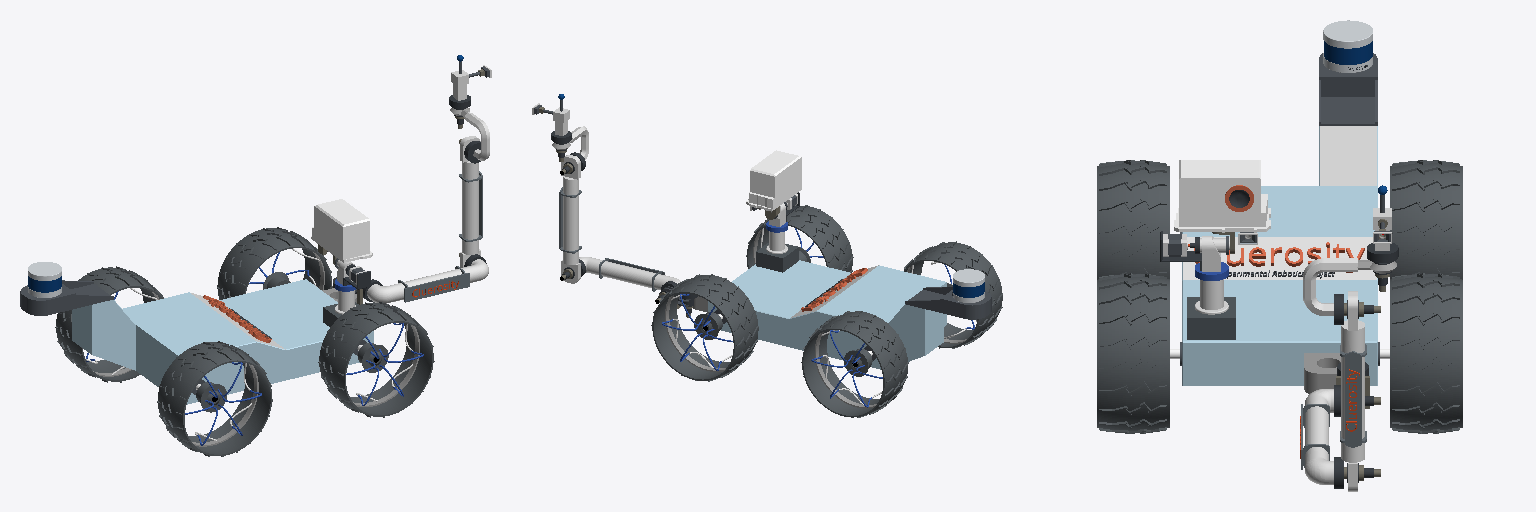
--- What the picture shows (computed from the rendered views, not written in the file) ---
The picture shows the robot from 3 angles, left to right: view 1: azimuth 30°, elevation 25°; view 2: azimuth 150°, elevation 25°; view 3: azimuth 270°, elevation 25°; orthographic projection.
Model cluerosity_manipulator with 27 links and 26 joints (5 revolute, 6 continuous, 15 fixed), rooted at base_footprint, posed all joints at 0.
Links seen in each view (by area): view 1: base_link, right_rear_wheel, right_front_wheel, left_front_wheel, left_rear_wheel, sensor_housing, link_01, link_02, lidar_base, lidar_sensor, gimbal_axle, motor_connector_02 (+1 smaller); view 2: base_link, left_front_wheel, left_rear_wheel, right_rear_wheel, right_front_wheel, sensor_housing, link_02, lidar_base, link_01, lidar_sensor, gimbal_axle, gimbal_base (+1 smaller); view 3: base_link, left_front_wheel, right_front_wheel, left_rear_wheel, right_rear_wheel, sensor_housing, link_02, lidar_base, link_01, lidar_sensor, gimbal_axle, motor_connector_02 (+6 smaller).
Link boxes in pixels (x1,y1,x2,y2): base_link: [72, 279, 373, 404]; right_rear_wheel: [157, 341, 272, 456]; right_front_wheel: [318, 301, 434, 417]; left_front_wheel: [217, 227, 332, 299]; left_rear_wheel: [55, 266, 163, 382]; sensor_housing: [311, 199, 372, 270]; link_01: [367, 259, 488, 303]; link_02: [459, 136, 482, 267]; lidar_base: [20, 280, 113, 315]; lidar_sensor: [28, 262, 61, 297]; gimbal_axle: [335, 261, 370, 314]; motor_connector_02: [450, 108, 489, 160]; base_link: [693, 260, 946, 369]; left_front_wheel: [651, 274, 758, 381]; left_rear_wheel: [801, 311, 908, 417]; right_rear_wheel: [904, 241, 1002, 348]; right_front_wheel: [746, 205, 853, 272]; sensor_housing: [746, 150, 801, 219]; link_02: [559, 155, 581, 283]; lidar_base: [905, 287, 991, 319]; link_01: [579, 257, 680, 291]; lidar_sensor: [952, 269, 984, 302]; gimbal_axle: [766, 192, 799, 253]; gimbal_base: [756, 243, 798, 272]; base_link: [1180, 126, 1379, 393]; left_front_wheel: [1390, 273, 1462, 433]; right_front_wheel: [1097, 273, 1169, 433]; left_rear_wheel: [1390, 160, 1462, 279]; right_rear_wheel: [1097, 160, 1169, 279]; sensor_housing: [1174, 160, 1270, 254]; link_02: [1340, 291, 1366, 491]; lidar_base: [1319, 53, 1377, 125]; link_01: [1300, 389, 1333, 484]; lidar_sensor: [1323, 20, 1372, 72]; gimbal_axle: [1160, 231, 1228, 314]; motor_connector_02: [1303, 258, 1396, 315].
Bounding box of the posed robot: 1.62 × 0.75 × 0.8149 m (x, y, z).
Meshes: 14 distinct files referenced, 24 mesh visuals loaded (14 Collada DAE).

robot.urdf — cluerosity_manipulator:
<?xml version="1.0" ?>
<!-- =================================================================================== -->
<!-- |    This document was autogenerated by xacro from [local-path]/catkin_ws/src/cluerosity/cluerosity_description/urdf/cluerosity_manipulator.xacro | -->
<!-- |    EDITING THIS FILE BY HAND IS NOT RECOMMENDED                                 | -->
<!-- =================================================================================== -->
<robot name="cluerosity_manipulator">
    <material name="black">
        <color rgba="0.0 0.0 0.0 1.0" />
    </material>
    <material name="blue">
        <color rgba="0.203125 0.23828125 0.28515625 1.0" />
    </material>
    <material name="green">
        <color rgba="0.0 0.8 0.0 1.0" />
    </material>
    <material name="grey">
        <color rgba="0.2 0.2 0.2 1.0" />
    </material>
    <material name="orange">
        <color rgba="1.0 0.423529411765 0.0392156862745 1.0" />
    </material>
    <material name="brown">
        <color rgba="0.870588235294 0.811764705882 0.764705882353 1.0" />
    </material>
    <material name="red">
        <color rgba="0.80078125 0.12890625 0.1328125 1.0" />
    </material>
    <material name="white">
        <color rgba="1.0 1.0 1.0 1.0" />
    </material>
    <material name="dark_gray">
        <color rgba="0.35 0.38 0.4 1" />
    </material>
    <material name="cyan">
        <color rgba="0 1.0 1.0 1.0" />
    </material>
    <!-- 
        +==================================+
        |      Wheel Definition Macro      |
        +=================================+ 
    -->
    <!-- 
        +=============================+
        |      Wheel Shaft Macro      |
        +============================+ 
    -->
    <!-- 
        +===========================+
        |      Fixed Link Macro     |
        +==========================+ 
    -->
    <!-- 
        +===========================+
        |   Continuous Link Macro    |
        +==========================+ 
    -->
    <!-- 
        +===========================+
        |  Revolute Link Macro    |
        +==========================+ 
    -->
    <!-- 
        +==============================================+
        |      Base Link and Base footprint Macro      |
        +==============================================+ 
    -->
    <!-- 
        +==================================+
        |   Sensor Gimbal links Macro     |
        +================================+ 
    -->
    <gazebo reference="gimbal_base">
        <material>Gazebo/DarkGrey</material>
    </gazebo>
    <gazebo>
        <plugin filename="libgazebo_ros_skid_steer_drive.so" name="skid_steer_drive_controller">
            <updateRate>20.0</updateRate>
            <robotNamespace>/</robotNamespace>
            <leftFrontJoint>left_front_wheel_joint</leftFrontJoint>
            <rightFrontJoint>right_front_wheel_joint</rightFrontJoint>
            <leftRearJoint>left_rear_wheel_joint</leftRearJoint>
            <rightRearJoint>right_rear_wheel_joint</rightRearJoint>
            <wheelSeparation>0.6</wheelSeparation>
            <wheelDiameter>0.33</wheelDiameter>
            <robotBaseFrame>base_footprint</robotBaseFrame>
            <torque>10000</torque>
            <topicName>cmd_vel</topicName>
            <broadcastTF>true</broadcastTF>
            <odometryTopic>odom</odometryTopic>
            <odometryFrame>odom</odometryFrame>
        </plugin>
    </gazebo>
    <!-- ros_control plugin -->
    <gazebo>
        <plugin filename="libgazebo_ros_control.so" name="gazebo_ros_control">
            <robotNamespace>cluerosity</robotNamespace>
            <robotSimType>gazebo_ros_control/DefaultRobotHWSim</robotSimType>
            <legacyModeNS>true</legacyModeNS>
        </plugin>
    </gazebo>
    <!-- hokuyo -->
    <gazebo reference="hokuyo_link">
        <sensor name="head_hokuyo_sensor" type="gpu_ray">
            <pose>0 0 0 0 0 0</pose>
            <visualize>false</visualize>
            <update_rate>40</update_rate>
            <ray>
                <scan>
                    <horizontal>
                        <samples>720</samples>
                        <resolution>1</resolution>
                        <min_angle>-1.570796</min_angle>
                        <max_angle>1.570796</max_angle>
                    </horizontal>
                </scan>
                <range>
                    <min>0.10</min>
                    <max>30.0</max>
                    <resolution>0.01</resolution>
                </range>
                <noise>
                    <type>gaussian</type>
                    <!-- Noise parameters based on published spec for Hokuyo laser
               achieving "+-30mm" accuracy at range < 10m.  A mean of 0.0m and
               stddev of 0.01m will put 99.7% of samples within 0.03m of the true
               reading. -->
                    <mean>0.0</mean>
                    <stddev>0.01</stddev>
                </noise>
            </ray>
            <plugin filename="libgazebo_ros_gpu_laser.so" name="gazebo_ros_head_hokuyo_controller">
                <topicName>laser_scan</topicName>
                <frameName>hokuyo_link</frameName>
            </plugin>
        </sensor>
    </gazebo>
    <!-- camera -->
    <gazebo reference="camera_link">
        <sensor name="camera1" type="camera">
            <update_rate>30.0</update_rate>
            <camera name="head">
                <horizontal_fov>1.3962634</horizontal_fov>
                <image>
                    <width>800</width>
                    <height>800</height>
                    <format>R8G8B8</format>
                </image>
                <clip>
                    <near>0.02</near>
                    <far>300</far>
                </clip>
                <noise>
                    <type>gaussian</type>
                    <!-- Noise is sampled independently per pixel on each frame.
               That pixel's noise value is added to each of its color
               channels, which at that point lie in the range [0,1]. -->
                    <mean>0.0</mean>
                    <stddev>0.007</stddev>
                </noise>
            </camera>
            <plugin filename="libgazebo_ros_camera.so" name="camera_controller">
                <alwaysOn>true</alwaysOn>
                <updateRate>0.0</updateRate>
                <cameraName>cluerosity/camera1</cameraName>
                <imageTopicName>image_raw</imageTopicName>
                <cameraInfoTopicName>camera_info</cameraInfoTopicName>
                <frameName>camera_link</frameName>
                <hackBaseline>0.07</hackBaseline>
                <distortionK1>0.0</distortionK1>
                <distortionK2>0.0</distortionK2>
                <distortionK3>0.0</distortionK3>
                <distortionT1>0.0</distortionT1>
                <distortionT2>0.0</distortionT2>
            </plugin>
        </sensor>
    </gazebo>
    <!-- rgbd -->
    <gazebo reference="camera_link">
        <sensor name="rgbd" type="depth">
            <update_rate>20</update_rate>
            <camera>
                <horizontal_fov>1.047198</horizontal_fov>
                <image>
                    <width>640</width>
                    <height>480</height>
                    <format>R8G8B8</format>
                </image>
                <clip>
                    <near>0.05</near>
                    <far>3</far>
                </clip>
            </camera>
            <plugin filename="libgazebo_ros_openni_kinect.so" name="camera_controller">
                <baseline>0.2</baseline>
                <alwaysOn>true</alwaysOn>
                <updateRate>1.0</updateRate>
                <cameraName>camera_ir</cameraName>
                <imageTopicName>/camera/color/image_raw</imageTopicName>
                <cameraInfoTopicName>/camera/color/camera_info</cameraInfoTopicName>
                <depthImageTopicName>/camera/depth/image_raw</depthImageTopicName>
                <depthImageInfoTopicName>/camera/depth/camera_info</depthImageInfoTopicName>
                <pointCloudTopicName>/camera/depth/points</pointCloudTopicName>
                <frameName>camera_depth_link</frameName>
                <pointCloudCutoff>0.5</pointCloudCutoff>
                <pointCloudCutoffMax>3.0</pointCloudCutoffMax>
                <distortionK1>0.00000001</distortionK1>
                <distortionK2>0.00000001</distortionK2>
                <distortionK3>0.00000001</distortionK3>
                <distortionT1>0.00000001</distortionT1>
                <distortionT2>0.00000001</distortionT2>
                <CxPrime>0</CxPrime>
                <Cx>0</Cx>
                <Cy>0</Cy>
                <focalLength>0</focalLength>
                <hackBaseline>0</hackBaseline>
            </plugin>
        </sensor>
    </gazebo>
    <transmission name="motor_01_trans">
        <type>transmission_interface/SimpleTransmission</type>
        <joint name="motor_01_joint">
            <hardwareInterface>hardware_interface/EffortJointInterface</hardwareInterface>
        </joint>
        <actuator name="motor1">
            <hardwareInterface>hardware_interface/EffortJointInterface</hardwareInterface>
            <mechanicalInterface>1</mechanicalInterface>
        </actuator>
    </transmission>
    <transmission name="motor_02_trans">
        <type>transmission_interface/SimpleTransmission</type>
        <joint name="motor_02_joint">
            <hardwareInterface>hardware_interface/EffortJointInterface</hardwareInterface>
        </joint>
        <actuator name="motor2">
            <hardwareInterface>hardware_interface/EffortJointInterface</hardwareInterface>
            <mechanicalInterface>1</mechanicalInterface>
        </actuator>
    </transmission>
    <transmission name="motor_03_trans">
        <type>transmission_interface/SimpleTransmission</type>
        <joint name="motor_03_joint">
            <hardwareInterface>hardware_interface/EffortJointInterface</hardwareInterface>
        </joint>
        <actuator name="motor3">
            <hardwareInterface>hardware_interface/EffortJointInterface</hardwareInterface>
            <mechanicalInterface>1</mechanicalInterface>
        </actuator>
    </transmission>
    <transmission name="motor_04_trans">
        <type>transmission_interface/SimpleTransmission</type>
        <joint name="motor_04_joint">
            <hardwareInterface>hardware_interface/EffortJointInterface</hardwareInterface>
        </joint>
        <actuator name="motor4">
            <hardwareInterface>hardware_interface/EffortJointInterface</hardwareInterface>
            <mechanicalInterface>1</mechanicalInterface>
        </actuator>
    </transmission>
    <transmission name="motor_05_trans">
        <type>transmission_interface/SimpleTransmission</type>
        <joint name="motor_05_joint">
            <hardwareInterface>hardware_interface/EffortJointInterface</hardwareInterface>
        </joint>
        <actuator name="motor5">
            <hardwareInterface>hardware_interface/EffortJointInterface</hardwareInterface>
            <mechanicalInterface>1</mechanicalInterface>
        </actuator>
    </transmission>
    <transmission name="sensor_housing_trans">
        <type>transmission_interface/SimpleTransmission</type>
        <joint name="sensor_housing_joint">
            <hardwareInterface>hardware_interface/EffortJointInterface</hardwareInterface>
        </joint>
        <actuator name="motor7">
            <hardwareInterface>hardware_interface/EffortJointInterface</hardwareInterface>
            <mechanicalInterface>1</mechanicalInterface>
        </actuator>
    </transmission>
    <transmission name="gimbal_axle_trans">
        <type>transmission_interface/SimpleTransmission</type>
        <joint name="gimbal_axle_joint">
            <hardwareInterface>hardware_interface/EffortJointInterface</hardwareInterface>
        </joint>
        <actuator name="motor6">
            <hardwareInterface>hardware_interface/EffortJointInterface</hardwareInterface>
            <mechanicalInterface>1</mechanicalInterface>
        </actuator>
    </transmission>
    <link name="base_link">
        <visual>
            <origin rpy="0 3.14159265359 -1.570796326795" xyz="0 0 0.15" />
            <geometry>
                <mesh filename="package://cluerosity_description/meshes/robot_base.dae" />
            </geometry>
        </visual>
        <collision>
            <origin rpy="0 0 0" xyz="0 0 0.075" />
            <geometry>
                <box size="0.8 0.4 0.15" />
            </geometry>
        </collision>
        <collision>
            <origin rpy="0 0 0" xyz="-0.325 0.14 0.2" />
            <geometry>
                <box size="0.15 0.12 0.1" />
            </geometry>
        </collision>
        <collision>
            <origin rpy="0 0 0" xyz="0.45 0.1 0.05" />
            <geometry>
                <box size="0.1 0.1 0.05" />
            </geometry>
        </collision>
        
<inertial>
            <mass value="56.77662104" />
            <origin rpy="0 0 0" xyz="0 0 0.075" />
            <inertia ixx="2.64" ixy="0.221" ixz="0.046" iyy="0.907" iyz="-0.237" izz="3.303" />
        </inertial>

    </link>
    <!-- Base footprint is on the ground under the robot -->
    <link name="base_footprint" />
    <joint name="base_link_joint" type="fixed">
        <origin rpy="0 0 0" xyz="0 0 0.115" />
        <parent link="base_footprint" />
        <child link="base_link" />
    </joint>
    <link name="front_shaft">
        <visual>
            <origin rpy="1.570796326795 0 0" xyz="0 0 0" />
            <geometry>
                <cylinder length="0.55" radius="0.01" />
            </geometry>
            <material name="white" />
        </visual>
        <collision>
            <origin rpy="1.570796326795 0 0" xyz="0 0 0" />
            <geometry>
                <cylinder length="0.55" radius="0.01" />
            </geometry>
        </collision>
        
<inertial>
            <mass value="0.30129837" />
            <origin rpy="1.570796326795 0 0" xyz="0 0 0" />
            <inertia ixx="0.00759711" ixy="0" ixz="0" iyy="0.00759711" iyz="0" izz="3.77e-06" />
        </inertial>

    </link>
    <joint name="front_shaft_joint" type="fixed">
        <parent link="base_link" />
        <child link="front_shaft" />
        <origin rpy="0 0 0" xyz="0.350 0 0.05" />
    </joint>
    <link name="rear_shaft">
        <visual>
            <origin rpy="1.570796326795 0 0" xyz="0 0 0" />
            <geometry>
                <cylinder length="0.55" radius="0.01" />
            </geometry>
            <material name="white" />
        </visual>
        <collision>
            <origin rpy="1.570796326795 0 0" xyz="0 0 0" />
            <geometry>
                <cylinder length="0.55" radius="0.01" />
            </geometry>
        </collision>
        
<inertial>
            <mass value="0.30129837" />
            <origin rpy="1.570796326795 0 0" xyz="0 0 0" />
            <inertia ixx="0.00759711" ixy="0" ixz="0" iyy="0.00759711" iyz="0" izz="3.77e-06" />
        </inertial>

    </link>
    <joint name="rear_shaft_joint" type="fixed">
        <parent link="base_link" />
        <child link="rear_shaft" />
        <origin rpy="0 0 0" xyz="-0.20 0 0.05" />
    </joint>
    <!-- 
        +=====================+
        |   Wheel definition  |
        +=====================+ 
    -->
    <link name="right_front_wheel">
        <visual>
            <origin rpy="1.570796326795 0 -1.570796326795" xyz="-0.14686986 0 0" />
            <geometry>
                <mesh filename="package://cluerosity_description/meshes/tyre.dae" />
            </geometry>
        </visual>
        <visual>
            <origin rpy="0 0 0" xyz="0 0 0" />
            <geometry>
                <mesh filename="package://cluerosity_description/meshes/rim.dae" />
            </geometry>
        </visual>
        <collision>
            <origin rpy="1.570796326795 0 0" xyz="0 0 0" />
            <geometry>
                <cylinder length="0.15" radius="0.165" />
            </geometry>
        </collision>
        
<inertial>
            <mass value="5.52250093" />
            <origin rpy="1.570796326795 0 0" xyz="0 0 0" />
            <inertia ixx="0.13326254" ixy="0" ixz="0" iyy="0.07660474" iyz="0" izz="0.077" />
        </inertial>

    </link>
    <joint name="right_front_wheel_joint" type="continuous">
        <parent link="base_link" />
        <child link="right_front_wheel" />
        <origin rpy="0 0 0" xyz="0.35 -0.30 0.05" />
        <axis rpy="0 0 0" xyz="0 1 0" />
    </joint>
    <link name="right_rear_wheel">
        <visual>
            <origin rpy="1.570796326795 0 -1.570796326795" xyz="-0.14686986 0 0" />
            <geometry>
                <mesh filename="package://cluerosity_description/meshes/tyre.dae" />
            </geometry>
        </visual>
        <visual>
            <origin rpy="0 0 0" xyz="0 0 0" />
            <geometry>
                <mesh filename="package://cluerosity_description/meshes/rim.dae" />
            </geometry>
        </visual>
        <collision>
            <origin rpy="1.570796326795 0 0" xyz="0 0 0" />
            <geometry>
                <cylinder length="0.15" radius="0.165" />
            </geometry>
        </collision>
        
<inertial>
            <mass value="5.52250093" />
            <origin rpy="1.570796326795 0 0" xyz="0 0 0" />
            <inertia ixx="0.13326254" ixy="0" ixz="0" iyy="0.07660474" iyz="0" izz="0.077" />
        </inertial>

    </link>
    <joint name="right_rear_wheel_joint" type="continuous">
        <parent link="base_link" />
        <child link="right_rear_wheel" />
        <origin rpy="0 0 0" xyz="-0.20 -0.30 0.05" />
        <axis rpy="0 0 0" xyz="0 1 0" />
    </joint>
    <link name="left_front_wheel">
        <visual>
            <origin rpy="1.570796326795 0 -1.570796326795" xyz="-0.14686986 0 0" />
            <geometry>
                <mesh filename="package://cluerosity_description/meshes/tyre.dae" />
            </geometry>
        </visual>
        <visual>
            <origin rpy="0 0 3.14159265359" xyz="0 0 0" />
            <geometry>
                <mesh filename="package://cluerosity_description/meshes/rim.dae" />
            </geometry>
        </visual>
        <collision>
            <origin rpy="1.570796326795 0 0" xyz="0 0 0" />
            <geometry>
                <cylinder length="0.15" radius="0.165" />
            </geometry>
        </collision>
        
<inertial>
            <mass value="5.52250093" />
            <origin rpy="1.570796326795 0 0" xyz="0 0 0" />
            <inertia ixx="0.13326254" ixy="0" ixz="0" iyy="0.07660474" iyz="0" izz="0.077" />
        </inertial>

    </link>
    <joint name="left_front_wheel_joint" type="continuous">
        <parent link="base_link" />
        <child link="left_front_wheel" />
        <origin rpy="0 0 0" xyz="0.35 0.30 0.05" />
        <axis rpy="0 0 0" xyz="0 1 0" />
    </joint>
    <link name="left_rear_wheel">
        <visual>
            <origin rpy="1.570796326795 0 -1.570796326795" xyz="-0.14686986 0 0" />
            <geometry>
                <mesh filename="package://cluerosity_description/meshes/tyre.dae" />
            </geometry>
        </visual>
        <visual>
            <origin rpy="0 0 3.14159265359" xyz="0 0 0" />
            <geometry>
                <mesh filename="package://cluerosity_description/meshes/rim.dae" />
            </geometry>
        </visual>
        <collision>
            <origin rpy="1.570796326795 0 0" xyz="0 0 0" />
            <geometry>
                <cylinder length="0.15" radius="0.165" />
            </geometry>
        </collision>
        
<inertial>
            <mass value="5.52250093" />
            <origin rpy="1.570796326795 0 0" xyz="0 0 0" />
            <inertia ixx="0.13326254" ixy="0" ixz="0" iyy="0.07660474" iyz="0" izz="0.077" />
        </inertial>

    </link>
    <joint name="left_rear_wheel_joint" type="continuous">
        <parent link="base_link" />
        <child link="left_rear_wheel" />
        <origin rpy="0 0 0" xyz="-0.20 0.30 0.05" />
        <axis rpy="0 0 0" xyz="0 1 0" />
    </joint>
    <!-- 
        +=====================+
        |   Sensor Gimbal     |
        +=====================+ 
    -->
    <link name="gimbal_base">
        <visual>
            <origin rpy="0 0 0" xyz="0 0 0.025" />
            <geometry>
                <box size="0.1 0.1 0.05" />
            </geometry>
            <material name="dark_gray" />
        </visual>
        <collision>
            <origin rpy="0 0 0" xyz="0 0 0.025" />
            <geometry>
                <box size="0.1 0.1 0.05" />
            </geometry>
        </collision>
        
<inertial>
            <mass value="3.4875" />
            <origin rpy="0 0 0" xyz="0 0 0.025" />
            <inertia ixx="0.004" ixy="0" ixz="0" iyy="0.004" iyz="0" izz="0.006" />
        </inertial>

    </link>
    <joint name="gimbal_base_joint" type="fixed">
        <parent link="base_link" />
        <child link="gimbal_base" />
        <origin rpy="0 0 1.570796326795" xyz="0.340 -0.140 0.1" />
    </joint>
    <link name="gimbal_axle">
        <visual>
            <origin rpy="0 0 0" xyz="0 0 0" />
            <geometry>
                <mesh filename="package://cluerosity_description/meshes/gimbal_axle.dae" />
            </geometry>
        </visual>
        <collision>
            <origin rpy="0 0 0" xyz="0 0 0.12" />
            <geometry>
                <box size="0.07 0.07 0.190" />
            </geometry>
        </collision>
        
<inertial>
            <mass value="0.86030554" />
            <origin rpy="0 0 0" xyz="0 0 0.12" />
            <inertia ixx="0.00159531" ixy="0" ixz="0" iyy="0.00204855" iyz="0" izz="0.00078318" />
        </inertial>

    </link>
    <joint name="gimbal_axle_joint" type="continuous">
        <!-- change back to "continuous" -->
        <parent link="gimbal_base" />
        <child link="gimbal_axle" />
        <origin rpy="0 0 0" xyz="0 0 0" />
        <axis rpy="0 0 0" xyz="0 0 1" />
    </joint>
    <link name="sensor_housing">
        <visual>
            <origin rpy="0 0 0" xyz="0 0 0.053" />
            <geometry>
                <mesh filename="package://cluerosity_description/meshes/sensor_housing.dae" />
            </geometry>
        </visual>
        <collision>
            <origin rpy="0 0 0" xyz="0 0 0.105" />
            <geometry>
                <box size="0.200 0.100 0.150" />
            </geometry>
        </collision>
        
<inertial>
            <mass value="2.14582602" />
            <origin rpy="0 0 0" xyz="0 0 0.105" />
            <inertia ixx="0.00498945" ixy="-2.479e-05" ixz="0.0002252" iyy="0.00883757" iyz="-5.538e-05" izz="0.00675851" />
        </inertial>

    </link>
    <joint name="sensor_housing_joint" type="revolute">
        <!-- change back to "revolute" -->
        <parent link="stepper_motor" />
        <child link="sensor_housing" />
        <origin rpy="0 0 0" xyz="0.122 0 0" />
        <axis rpy="0 0 0" xyz="1 0 0" />
        <limit effort="1000.0" lower="-0.35" upper="0.35" velocity="0.5" />
    </joint>
    <link name="stepper_motor">
        <visual>
            <origin rpy="0 1.570796326795 0" xyz="0 0 0" />
            <geometry>
                <mesh filename="package://cluerosity_description/meshes/stepper_motor.dae" />
            </geometry>
        </visual>
        <collision>
            <origin rpy="0 1.570796326795 0" xyz="0.0325 0 0" />
            <geometry>
                <box size="0.05 0.05 0.080" />
            </geometry>
        </collision>
        
<inertial>
            <mass value="0.20879833" />
            <origin rpy="0 1.570796326795 0" xyz="0.0325 0 0" />
            <inertia ixx="9.78e-05" ixy="0" ixz="0" iyy="9.78e-05" iyz="0" izz="4.91e-05" />
        </inertial>

    </link>
    <joint name="stepper_motor_joint" type="fixed">
        <parent link="gimbal_axle" />
        <child link="stepper_motor" />
        <origin rpy="0 0 0" xyz="-0.10 0 0.19" />
    </joint>
    <link name="camera_link">
        <!-- <xacro:box_link 
                xyz="0 0 0" rpy="0 0 0" 
                box_size="0.01 0.01 0.01"
                material_name="dark_gray"/>
            <xacro:box_collision 
                xyz="0 0 0" rpy="0 0 0" 
                box_size="0.01 0.01 0.01"/>
            <xacro:link_inertia 
                xyz="0 0 0" rpy="0 0 0" 
                mass="0.1" 
                ixx="0.004" ixy="0" ixz="0"  
                iyy="0.004" iyz="0"  izz="0.006"/> -->
    </link>
    <joint name="camera_link_joint" type="fixed">
        <parent link="sensor_housing" />
        <child link="camera_link" />
        <origin rpy="0 0 -1.570796326795" xyz="0.035 -0.05 0.125" />
    </joint>
    <link name="camera_depth_link">
        <!-- <xacro:box_link 
                xyz="0 0 0" rpy="0 0 0" 
                box_size="0.01 0.01 0.01"
                material_name="dark_gray"/>
            <xacro:box_collision 
                xyz="0 0 0" rpy="0 0 0" 
                box_size="0.01 0.01 0.01"/>
            <xacro:link_inertia 
                xyz="0 0 0" rpy="0 0 0" 
                mass="0.1" 
                ixx="0.004" ixy="0" ixz="0"  
                iyy="0.004" iyz="0"  izz="0.006"/> -->
    </link>
    <joint name="camera_depth_link_joint" type="fixed">
        <parent link="camera_link" />
        <child link="camera_depth_link" />
        <origin rpy="-1.570796326795 0 -1.570796326795" xyz="0.05 0 0" />
    </joint>
    <link name="hokuyo_link">
        <!-- <xacro:box_link 
                xyz="0 0 0" rpy="0 0 0" 
                box_size="0.01 0.01 0.01"
                material_name="dark_gray"/>
            <xacro:box_collision 
                xyz="0 0 0" rpy="0 0 0" 
                box_size="0.01 0.01 0.01"/>
            <xacro:link_inertia 
                xyz="0 0 0" rpy="0 0 0" 
                mass="0.1" 
                ixx="0.004" ixy="0" ixz="0"  
                iyy="0.004" iyz="0"  izz="0.006"/> -->
    </link>
    <joint name="hokuyo_link_joint" type="fixed">
        <parent link="sensor_housing" />
        <child link="hokuyo_link" />
        <origin rpy="0 0 -1.570796326795" xyz="0.05 -0.05 0.035" />
    </joint>
    <!-- 
        +=======================+
        | Velodyne LiDAR Sensor |
        +=======================+ 
    -->
    <link name="lidar_base">
        <visual>
            <origin rpy="0 3.14159265359 1.570796326795" xyz="-0.075 0 0.05" />
            <geometry>
                <mesh filename="package://cluerosity_description/meshes/lidar_base.dae" />
            </geometry>
        </visual>
        <collision>
            <origin rpy="0 0 0" xyz="-0.135 0 0.025" />
            <geometry>
                <box size="0.270 0.120 0.05" />
            </geometry>
        </collision>
        
<inertial>
            <mass value="0.93983878" />
            <origin rpy="0 0 0" xyz="-0.135 0 0.025" />
            <inertia ixx="0.00318358" ixy="0" ixz="0" iyy="0.00133395" iyz="0.00023839" izz="0.0040904" />
        </inertial>

    </link>
    <joint name="lidar_base_joint" type="fixed">
        <parent link="base_link" />
        <child link="lidar_base" />
        <origin rpy="0 0 0" xyz="-0.325 0.140 0.25" />
    </joint>
    <link name="lidar_sensor">
        <visual>
            <origin rpy="0 0 0" xyz="0 0 0" />
            <geometry>
                <mesh filename="package://cluerosity_description/meshes/velodyne_lidar.dae" />
            </geometry>
        </visual>
        <collision>
            <origin rpy="0 0 0" xyz="0 0 0.0375" />
            <geometry>
                <box size="0.105 0.105 0.075" />
            </geometry>
        </collision>
        
<inertial>
            <mass value="0.61826506" />
            <origin rpy="0 0 0" xyz="0 0 0.0375" />
            <inertia ixx="0.00067265" ixy="0" ixz="0" iyy="0.0006728" iyz="0" izz="0.00080351" />
        </inertial>

    </link>
    <joint name="lidar_sensor_joint" type="fixed">
        <parent link="lidar_base" />
        <child link="lidar_sensor" />
        <origin rpy="0 0 0" xyz="-0.2 0 0.05" />
    </joint>
    <!-- 
        +=======================+
        |       Manipulator      |
        +=======================+ 
    -->
    <link name="motor_01">
        <visual>
            <origin rpy="0 0 0" xyz="0 0 0" />
            <geometry>
                <mesh filename="package://cluerosity_description/meshes/motor.dae" />
            </geometry>
        </visual>
        <collision>
            <origin rpy="0 0 0" xyz="0 0 0" />
            <geometry>
                <box size="0.065 0.065 0.1" />
            </geometry>
        </collision>
        
<inertial>
            <mass value="0.33104028" />
            <origin rpy="0 0 0" xyz="0 0 0" />
            <inertia ixx="0.00022976" ixy="0" ixz="0" iyy="0.00022976" iyz="0" izz="0.00011672" />
        </inertial>

    </link>
    <joint name="motor_01_joint" type="revolute">
        <parent link="base_link" />
        <child link="motor_01" />
        <origin rpy="3.14159265359 0 0" xyz="0.498 0.15 0.09" />
        <axis rpy="0 0 0" xyz="0 0 1" />
        <limit effort="1000.0" lower="-0.3" upper="1.2" velocity="0.5" />
        --&gt;
    </joint>
    <link name="motor_connector_01">
        <visual>
            <origin rpy="0 0 0" xyz="0 0 0" />
            <geometry>
                <mesh filename="package://cluerosity_description/meshes/motor_connector_01.dae" />
            </geometry>
        </visual>
        <collision>
            <origin rpy="0 0 0" xyz="0 0 0" />
            <geometry>
                <box size="0.05 0.05 0.05" />
            </geometry>
        </collision>
        
<inertial>
            <mass value="0.1226583" />
            <origin rpy="0 0 0" xyz="0 0 0" />
            <inertia ixx="6.619e-05" ixy="0" ixz="0" iyy="7.979e-05" iyz="0" izz="6.619e-05" />
        </inertial>

    </link>
    <joint name="motor_connector_01_joint" type="fixed">
        <parent link="motor_01" />
        <child link="motor_connector_01" />
        <origin rpy="1.570796326795 1.570796326795 0" xyz="0.046 0 0.0395" />
    </joint>
    <link name="motor_02">
        <visual>
            <origin rpy="0 0 0" xyz="0 0 0" />
            <geometry>
                <mesh filename="package://cluerosity_description/meshes/motor.dae" />
            </geometry>
        </visual>
        <collision>
            <origin rpy="0 0 0" xyz="0 0 0" />
            <geometry>
                <box size="0.065 0.065 0.1" />
            </geometry>
        </collision>
        
<inertial>
            <mass value="0.33104028" />
            <origin rpy="0 0 0" xyz="0 0 0" />
            <inertia ixx="0.00022976" ixy="0" ixz="0" iyy="0.00022976" iyz="0" izz="0.00011672" />
        </inertial>

    </link>
    <joint name="motor_02_joint" type="revolute">
        <parent link="motor_connector_01" />
        <child link="motor_02" />
        <origin rpy="0 0 0" xyz="0 0.036 -0.0395" />
        <axis rpy="0 0 0" xyz="0 0 1" />
        <limit effort="1000.0" lower="-1.570796326795" upper="0" velocity="0.5" />
        --&gt;
    </joint>
    <link name="link_01">
        <visual>
            <origin rpy="0 0 0" xyz="0 0 0" />
            <geometry>
                <mesh filename="package://cluerosity_description/meshes/link_01.dae" />
            </geometry>
        </visual>
        <collision>
            <origin rpy="0 0 0" xyz="0 -0.180 0" />
            <geometry>
                <box size="0.06 0.36 0.06" />
            </geometry>
        </collision>
        
<inertial>
            <mass value="1.28482853" />
            <origin rpy="0 0 0" xyz="0 -0.180 0" />
            <inertia ixx="0.01710143" ixy="0" ixz="0" iyy="0.00045593" iyz="0" izz="0.01705674" />
        </inertial>

    </link>
    <joint name="link_01_joint" type="fixed">
        <parent link="motor_02" />
        <child link="link_01" />
        <origin rpy="0 0 3.14159265359" xyz="0 0 0" />
    </joint>
    <link name="motor_03">
        <visual>
            <origin rpy="0 0 0" xyz="0 0 0" />
            <geometry>
                <mesh filename="package://cluerosity_description/meshes/motor.dae" />
            </geometry>
        </visual>
        <collision>
            <origin rpy="0 0 0" xyz="0 0 0" />
            <geometry>
                <box size="0.065 0.065 0.1" />
            </geometry>
        </collision>
        
<inertial>
            <mass value="0.33104028" />
            <origin rpy="0 0 0" xyz="0 0 0" />
            <inertia ixx="0.00022976" ixy="0" ixz="0" iyy="0.00022976" iyz="0" izz="0.00011672" />
        </inertial>

    </link>
    <joint name="motor_03_joint" type="revolute">
        <parent link="link_01" />
        <child link="motor_03" />
        <origin rpy="0 0 0" xyz="0 -0.35 0" />
        <axis rpy="0 0 0" xyz="0 0 1" />
        <limit effort="1000.0" lower="0" upper="1.570796326795" velocity="0.5" />
        --&gt;
    </joint>
    <link name="link_02">
        <visual>
            <origin rpy="0 0 0" xyz="0 0 0" />
            <geometry>
                <mesh filename="package://cluerosity_description/meshes/link_02.dae" />
            </geometry>
        </visual>
        <collision>
            <origin rpy="0 0 0" xyz="0.180 0 0" />
            <geometry>
                <box size="0.36 0.06 0.06" />
            </geometry>
        </collision>
        
<inertial>
            <mass value="1.19702377" />
            <origin rpy="0 0 0" xyz="0.180 0 0" />
            <inertia ixx="0.00043777" ixy="8.65e-06" ixz="0" iyy="0.01364495" iyz="0" izz="0.01375154" />
        </inertial>

    </link>
    <joint name="link_02_joint" type="fixed">
        <parent link="motor_03" />
        <child link="link_02" />
        <origin rpy="0 0 3.14159265359" xyz="0 0 0.0395" />
    </joint>
    <link name="motor_04">
        <visual>
            <origin rpy="0 0 0" xyz="0 0 0" />
            <geometry>
                <mesh filename="package://cluerosity_description/meshes/motor.dae" />
            </geometry>
        </visual>
        <collision>
            <origin rpy="0 0 0" xyz="0 0 0" />
            <geometry>
                <box size="0.065 0.065 0.1" />
            </geometry>
        </collision>
        
<inertial>
            <mass value="0.33104028" />
            <origin rpy="0 0 0" xyz="0 0 0" />
            <inertia ixx="0.00022976" ixy="0" ixz="0" iyy="0.00022976" iyz="0" izz="0.00011672" />
        </inertial>

    </link>
    <joint name="motor_04_joint" type="revolute">
        <parent link="link_02" />
        <child link="motor_04" />
        <origin rpy="0 0 0" xyz="0.370 0 -0.0395" />
        <axis rpy="0 0 0" xyz="0 0 1" />
        <limit effort="1000.0" lower="-1.570796326795" upper="1.570796326795" velocity="0.5" />
        --&gt;
    </joint>
    <link name="motor_connector_02">
        <visual>
            <origin rpy="0 0 0" xyz="0 0 0" />
            <geometry>
                <mesh filename="package://cluerosity_description/meshes/motor_connector_02.dae" />
            </geometry>
        </visual>
        <collision>
            <origin rpy="0 0 0" xyz="0 0 0" />
            <geometry>
                <box size="0.05 0.05 0.05" />
            </geometry>
        </collision>
        
<inertial>
            <mass value="0.32771971" />
            <origin rpy="0 0 0" xyz="0 0 0" />
            <inertia ixx="0.00031006" ixy="0" ixz="0" iyy="0.00083377" iyz="0" izz="0.00055215" />
        </inertial>

    </link>
    <joint name="motor_connector_02_joint" type="fixed">
        <parent link="motor_04" />
        <child link="motor_connector_02" />
        <origin rpy="0 0 0" xyz="0 0 0" />
    </joint>
    <link name="motor_05">
        <visual>
            <origin rpy="0 0 0" xyz="0 0 0" />
            <geometry>
                <mesh filename="package://cluerosity_description/meshes/motor.dae" />
            </geometry>
        </visual>
        <collision>
            <origin rpy="0 0 0" xyz="0 0 0" />
            <geometry>
                <box size="0.05 0.05 0.15" />
            </geometry>
        </collision>
        
<inertial>
            <mass value="0.61826506" />
            <origin rpy="0 0 0" xyz="0 0 0" />
            <inertia ixx="0.00067265" ixy="0" ixz="0" iyy="0.0006728" iyz="0" izz="0.00080351" />
        </inertial>

    </link>
    <joint name="motor_05_joint" type="continuous">
        <parent link="motor_connector_02" />
        <child link="motor_05" />
        <origin rpy="0 -1.570796326795 0" xyz="0.1395 0 0.1" />
        <axis rpy="0 0 0" xyz="0 0 1" />
    </joint>
    <link name="end_effector_connector">
        <visual>
            <origin rpy="0 0 0" xyz="0 0 0" />
            <geometry>
                <mesh filename="package://cluerosity_description/meshes/end_effector_connector.dae" />
            </geometry>
        </visual>
        <collision>
            <origin rpy="0 0 0" xyz="0 0 0" />
            <geometry>
                <box size="0.105 0.105 0.075" />
            </geometry>
        </collision>
        
<inertial>
            <mass value="0.30502898" />
            <origin rpy="0 0 0" xyz="0 0 0" />
            <inertia ixx="0.00027224" ixy="0" ixz="0" iyy="0.00042032" iyz="0" izz="0.00020714" />
        </inertial>

    </link>
    <joint name="end_effector_connector_joint" type="fixed">
        <parent link="motor_05" />
        <child link="end_effector_connector" />
        <origin rpy="0 0 -1.570796326795" xyz="0 0 0" />
    </joint>
    <transmission name="trans_right_front_wheel_joint">
        <type>transmission_interface/SimpleTransmission</type>
        <joint name="right_front_wheel_joint">
            <hardwareInterface>hardware_interface/EffortJointInterface</hardwareInterface>
        </joint>
        <actuator name="right_front_wheel_joint_motor">
            <hardwareInterface>hardware_interface/EffortJointInterface</hardwareInterface>
            <mechanicalReduction>1</mechanicalReduction>
        </actuator>
    </transmission>
    <transmission name="trans_right_rear_wheel_joint">
        <type>transmission_interface/SimpleTransmission</type>
        <joint name="right_rear_wheel_joint">
            <hardwareInterface>hardware_interface/EffortJointInterface</hardwareInterface>
        </joint>
        <actuator name="right_rear_wheel_joint_motor">
            <hardwareInterface>hardware_interface/EffortJointInterface</hardwareInterface>
            <mechanicalReduction>1</mechanicalReduction>
        </actuator>
    </transmission>
    <transmission name="trans_left_front_wheel_joint">
        <type>transmission_interface/SimpleTransmission</type>
        <joint name="left_front_wheel_joint">
            <hardwareInterface>hardware_interface/EffortJointInterface</hardwareInterface>
        </joint>
        <actuator name="left_front_wheel_joint_motor">
            <hardwareInterface>hardware_interface/EffortJointInterface</hardwareInterface>
            <mechanicalReduction>1</mechanicalReduction>
        </actuator>
    </transmission>
    <transmission name="trans_left_rear_wheel_joint">
        <type>transmission_interface/SimpleTransmission</type>
        <joint name="left_rear_wheel_joint">
            <hardwareInterface>hardware_interface/EffortJointInterface</hardwareInterface>
        </joint>
        <actuator name="left_rear_wheel_joint_motor">
            <hardwareInterface>hardware_interface/EffortJointInterface</hardwareInterface>
            <mechanicalReduction>1</mechanicalReduction>
        </actuator>
    </transmission>
    <transmission name="trans_gimbal_axle_joint">
        <type>transmission_interface/SimpleTransmission</type>
        <joint name="gimbal_axle_joint">
            <hardwareInterface>hardware_interface/EffortJointInterface</hardwareInterface>
        </joint>
        <actuator name="gimbal_axle_joint_motor">
            <hardwareInterface>hardware_interface/EffortJointInterface</hardwareInterface>
            <mechanicalReduction>1</mechanicalReduction>
        </actuator>
    </transmission>
    <transmission name="trans_sensor_housing_joint">
        <type>transmission_interface/SimpleTransmission</type>
        <joint name="sensor_housing_joint">
            <hardwareInterface>hardware_interface/EffortJointInterface</hardwareInterface>
        </joint>
        <actuator name="sensor_housing_joint_motor">
            <hardwareInterface>hardware_interface/EffortJointInterface</hardwareInterface>
            <mechanicalReduction>1</mechanicalReduction>
        </actuator>
    </transmission>
    <transmission name="trans_motor_01_joint">
        <type>transmission_interface/SimpleTransmission</type>
        <joint name="motor_01_joint">
            <hardwareInterface>hardware_interface/EffortJointInterface</hardwareInterface>
        </joint>
        <actuator name="motor_01_joint_motor">
            <hardwareInterface>hardware_interface/EffortJointInterface</hardwareInterface>
            <mechanicalReduction>1</mechanicalReduction>
        </actuator>
    </transmission>
    <transmission name="trans_motor_02_joint">
        <type>transmission_interface/SimpleTransmission</type>
        <joint name="motor_02_joint">
            <hardwareInterface>hardware_interface/EffortJointInterface</hardwareInterface>
        </joint>
        <actuator name="motor_02_joint_motor">
            <hardwareInterface>hardware_interface/EffortJointInterface</hardwareInterface>
            <mechanicalReduction>1</mechanicalReduction>
        </actuator>
    </transmission>
    <transmission name="trans_motor_03_joint">
        <type>transmission_interface/SimpleTransmission</type>
        <joint name="motor_03_joint">
            <hardwareInterface>hardware_interface/EffortJointInterface</hardwareInterface>
        </joint>
        <actuator name="motor_03_joint_motor">
            <hardwareInterface>hardware_interface/EffortJointInterface</hardwareInterface>
            <mechanicalReduction>1</mechanicalReduction>
        </actuator>
    </transmission>
    <transmission name="trans_motor_04_joint">
        <type>transmission_interface/SimpleTransmission</type>
        <joint name="motor_04_joint">
            <hardwareInterface>hardware_interface/EffortJointInterface</hardwareInterface>
        </joint>
        <actuator name="motor_04_joint_motor">
            <hardwareInterface>hardware_interface/EffortJointInterface</hardwareInterface>
            <mechanicalReduction>1</mechanicalReduction>
        </actuator>
    </transmission>
    <transmission name="trans_motor_05_joint">
        <type>transmission_interface/SimpleTransmission</type>
        <joint name="motor_05_joint">
            <hardwareInterface>hardware_interface/EffortJointInterface</hardwareInterface>
        </joint>
        <actuator name="motor_05_joint_motor">
            <hardwareInterface>hardware_interface/EffortJointInterface</hardwareInterface>
            <mechanicalReduction>1</mechanicalReduction>
        </actuator>
    </transmission>
    <gazebo>
        <plugin name="gazebo_ros_control" filename="libgazebo_ros_control.so">
            <robotNamespace>/</robotNamespace>
        </plugin>
    </gazebo>
</robot>
